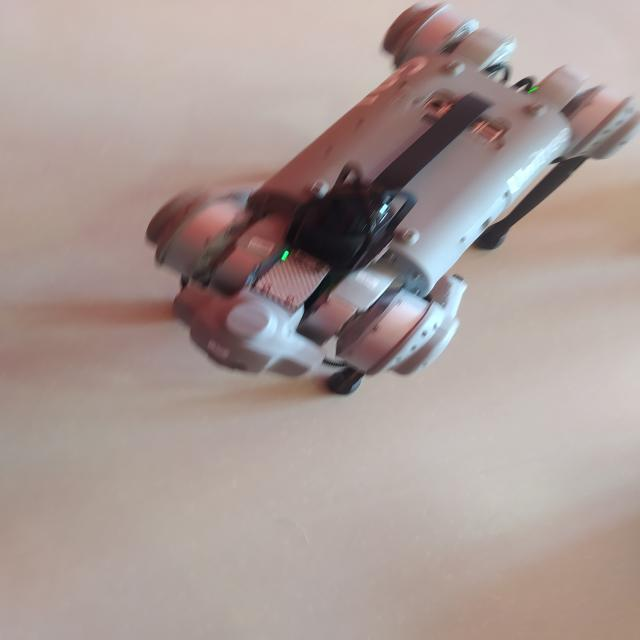unitree-go1-robot: (140, 0, 638, 410)
